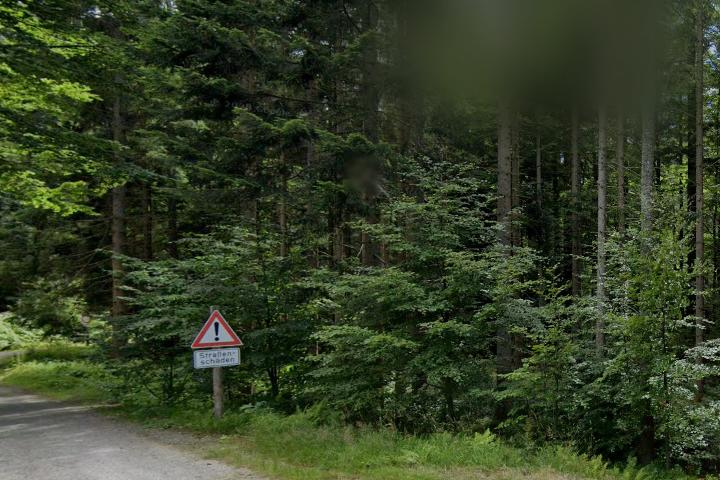traffic_sign: (189, 309, 244, 348)
